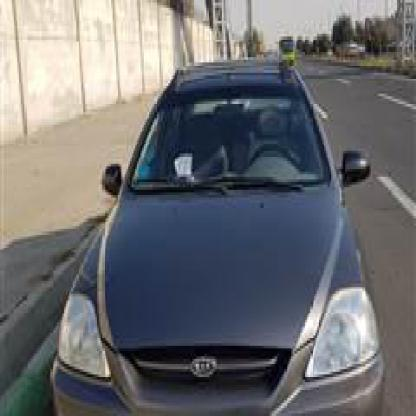car: (50, 65, 388, 413)
